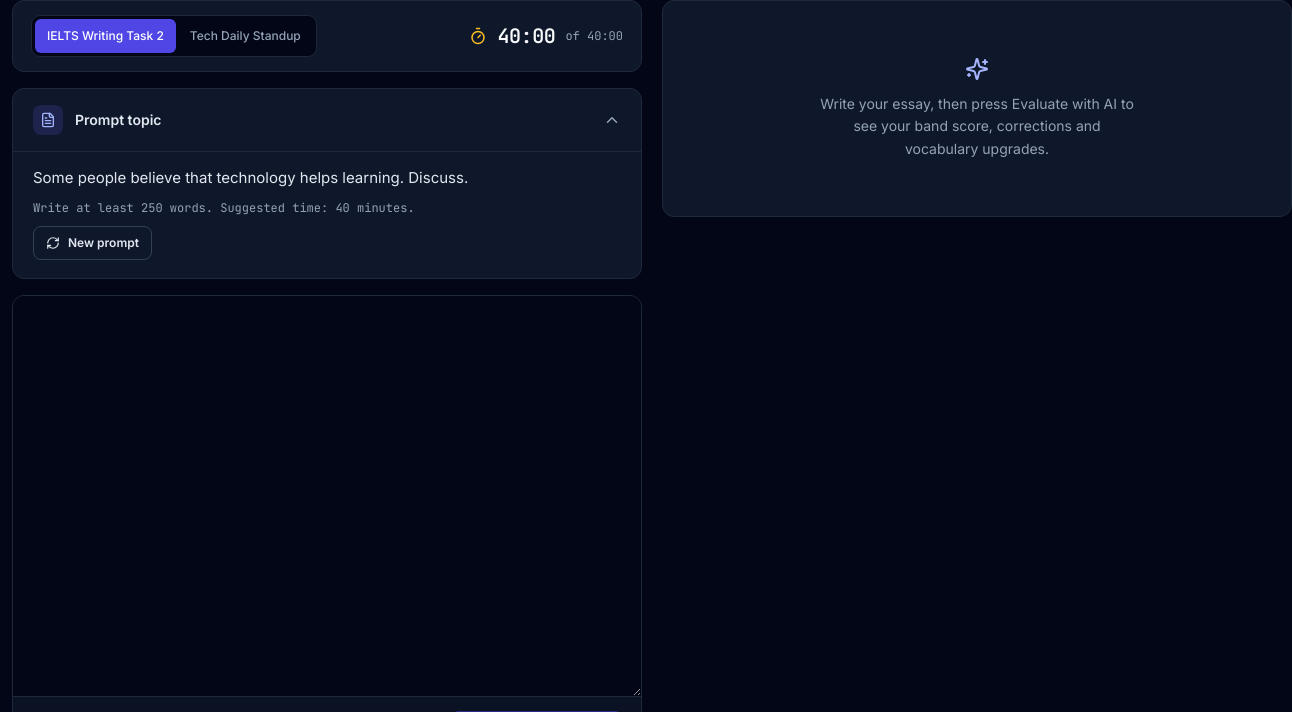
Test case: a failed New prompt keeps the current prompt and says so
Expected: the text "Some people believe that technology helps learning. Discuss." is shown, [33,168,468,187]
Step 1. Click the button "New prompt" → (92, 243), box [33,226,152,260]
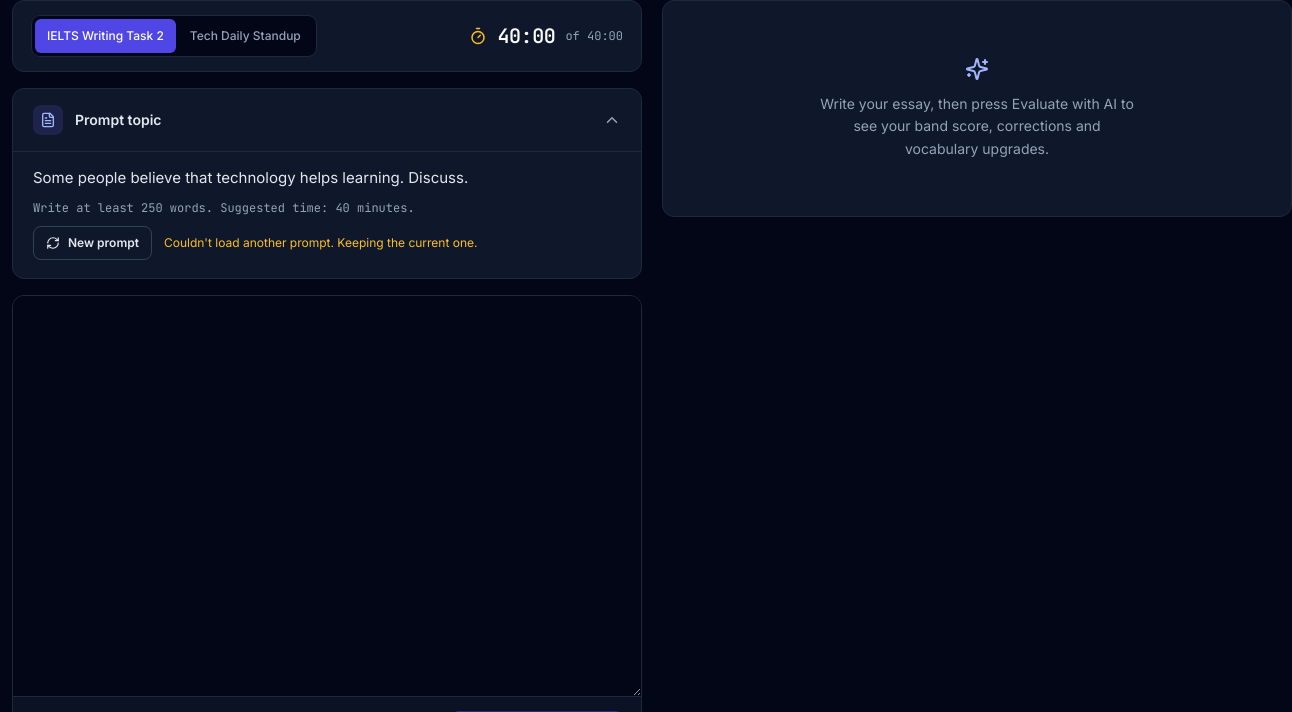
Expected: the text "Some people believe that technology helps learning. Discuss." is shown, [33,168,468,187]
Now the message "Couldn't load another prompt. Keeping the current one." is shown, box [164,235,478,251]
